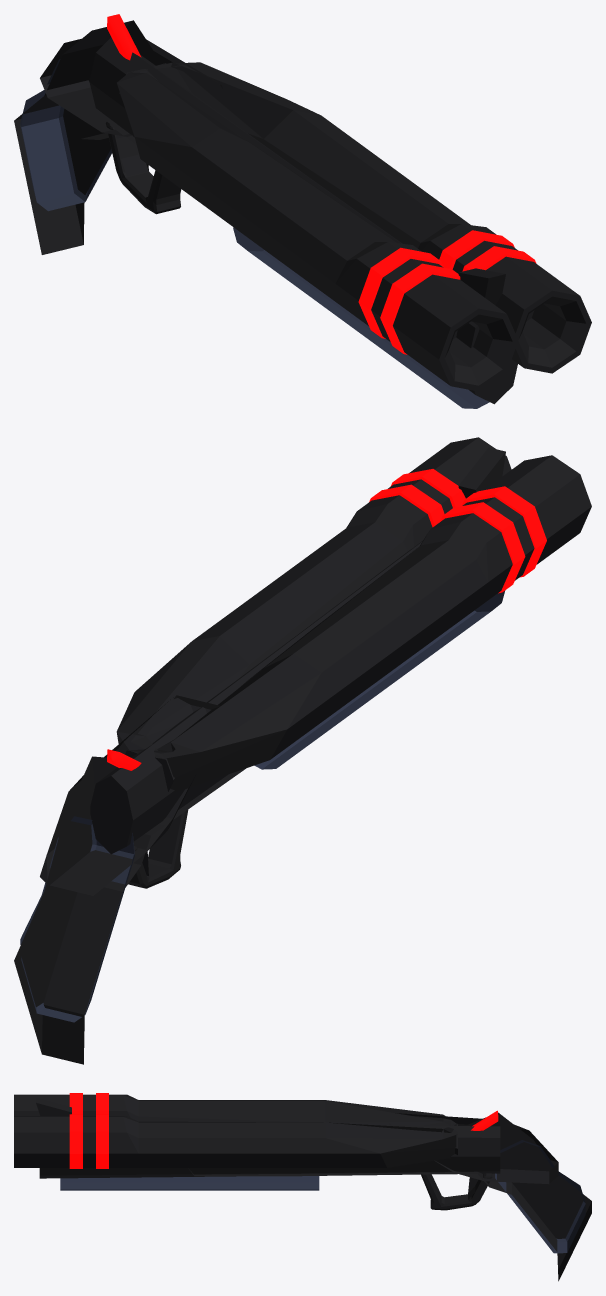
The model's file is coachgun.fbx.
The picture shows the model from 3 angles, top to bottom: view 1: azimuth 30°, elevation 25°; view 2: azimuth 150°, elevation 25°; view 3: azimuth 270°, elevation 25°; orthographic projection. The views are drawn at different scales.
Parts seen in each view (by area): view 1: coachgun; view 2: coachgun; view 3: coachgun.
Boxes of the visible parts, x1=… form: coachgun: x1=14, y1=14, x2=591, y2=408; coachgun: x1=14, y1=437, x2=591, y2=1064; coachgun: x1=14, y1=1093, x2=591, y2=1281.
Size of the model in its own units: 133 by 24.94 by 44.6.
